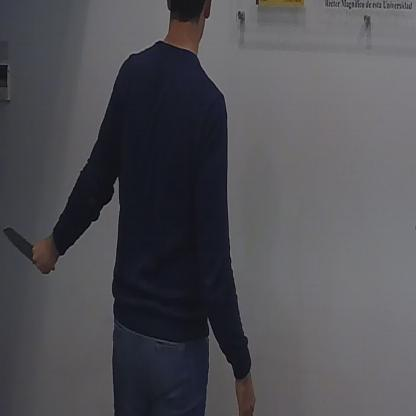knife: (0, 217, 50, 278)
